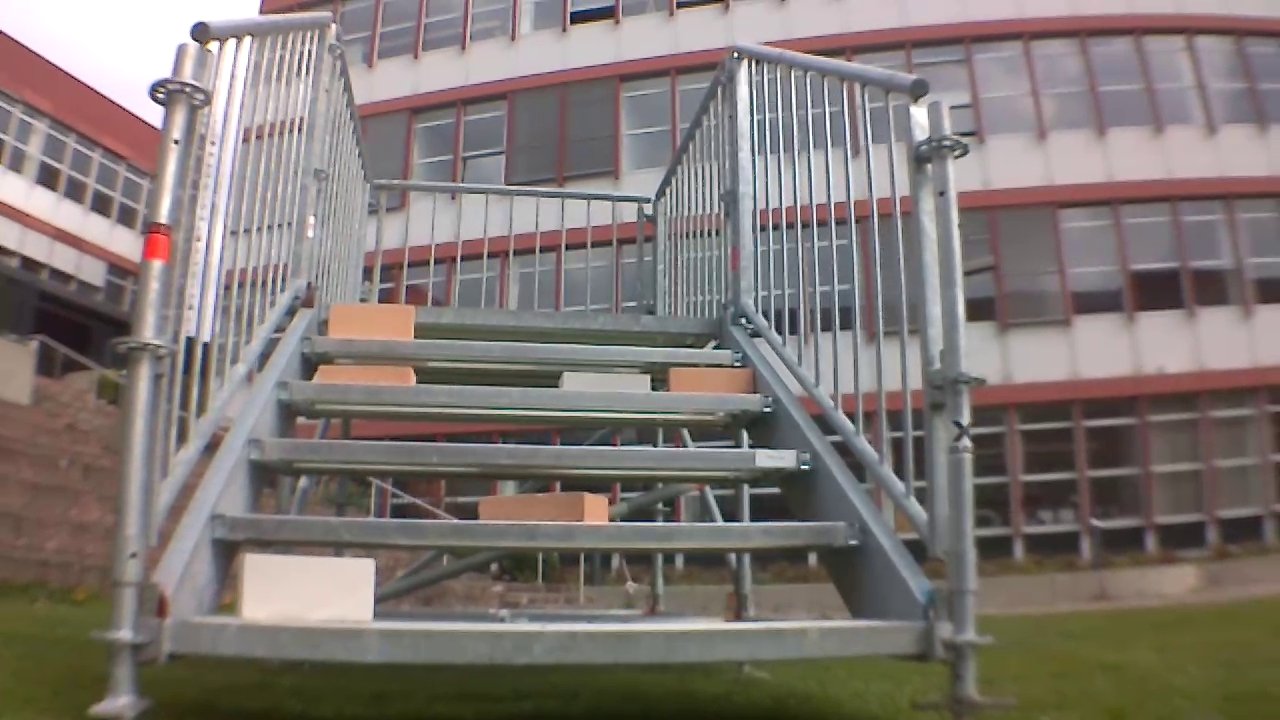brick: (239, 554, 380, 620), (476, 488, 609, 524), (331, 304, 414, 338), (666, 367, 756, 389), (560, 370, 656, 390), (316, 364, 420, 382)
edge: (143, 620, 930, 673), (203, 515, 864, 546), (246, 441, 814, 472), (277, 382, 780, 413), (314, 302, 723, 329), (302, 334, 749, 354)
stairs: (107, 0, 972, 704)
steps: (135, 304, 932, 667)
